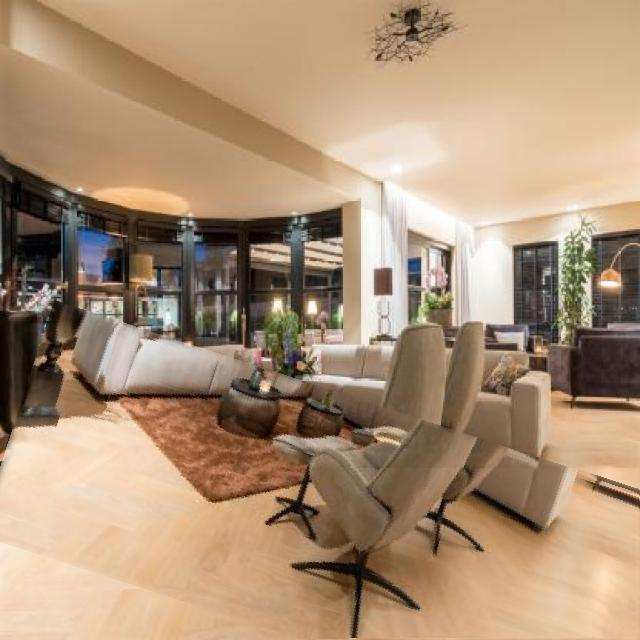floor: (0, 374, 350, 640), (350, 469, 640, 639)
